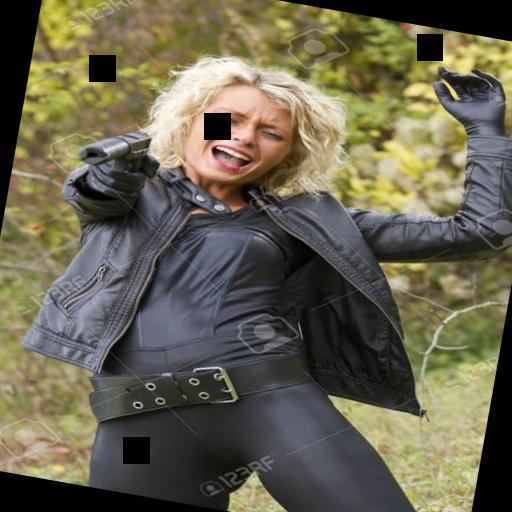Handgun: (76, 119, 156, 186)
